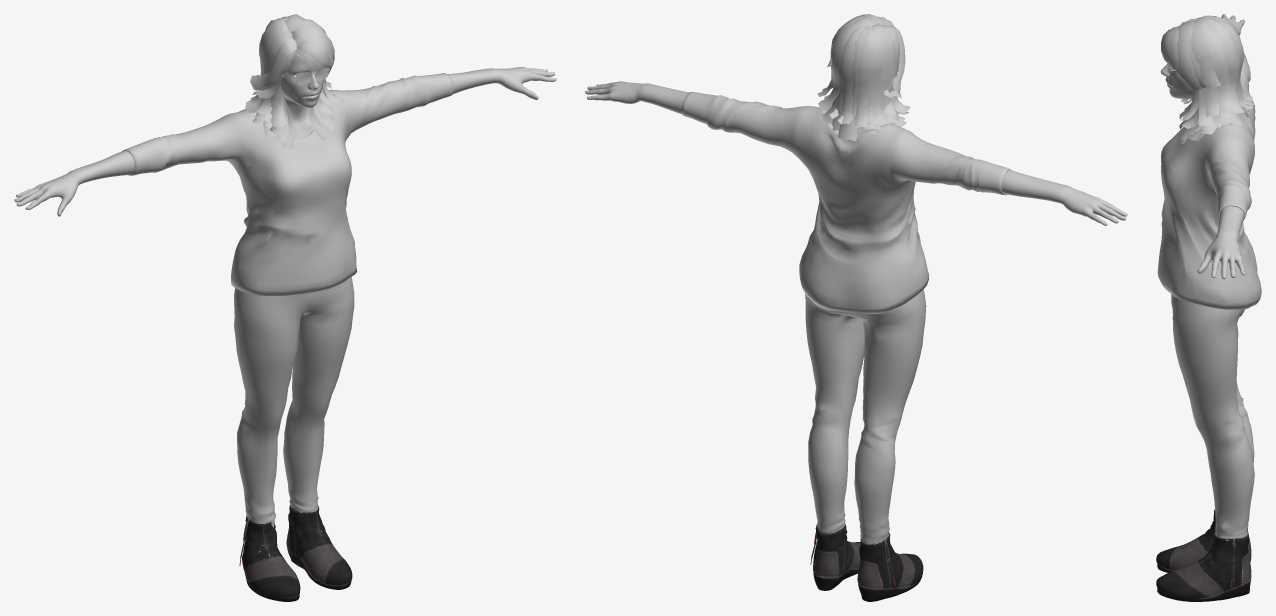
The model's file is unity_character.obj.
3 renders of one model, left to right at view 1: azimuth 30°, elevation 25°; view 2: azimuth 150°, elevation 25°; view 3: azimuth 270°, elevation 25°, orthographic.
Parts seen in each view (by area): view 1: Tops, Bottoms, Hair, Shoes, Body; view 2: Tops, Bottoms, Hair, Shoes, Body; view 3: Tops, Bottoms, Hair, Shoes, Body.
Boxes of the visible parts, bbox=[...] form: Tops: bbox=[122, 73, 453, 295]; Bottoms: bbox=[234, 277, 354, 527]; Hair: bbox=[245, 14, 344, 149]; Shoes: bbox=[239, 504, 352, 601]; Body: bbox=[14, 36, 556, 216]; Tops: bbox=[681, 92, 1010, 314]; Bottoms: bbox=[805, 289, 926, 544]; Hair: bbox=[817, 14, 910, 141]; Shoes: bbox=[810, 524, 923, 601]; Body: bbox=[585, 81, 1127, 225]; Tops: bbox=[1157, 54, 1261, 309]; Bottoms: bbox=[1171, 294, 1254, 540]; Hair: bbox=[1161, 15, 1254, 143]; Shoes: bbox=[1156, 510, 1251, 601]; Body: bbox=[1160, 14, 1245, 279].
Bounding box in the file's own units: 179 × 179 × 30.4.
